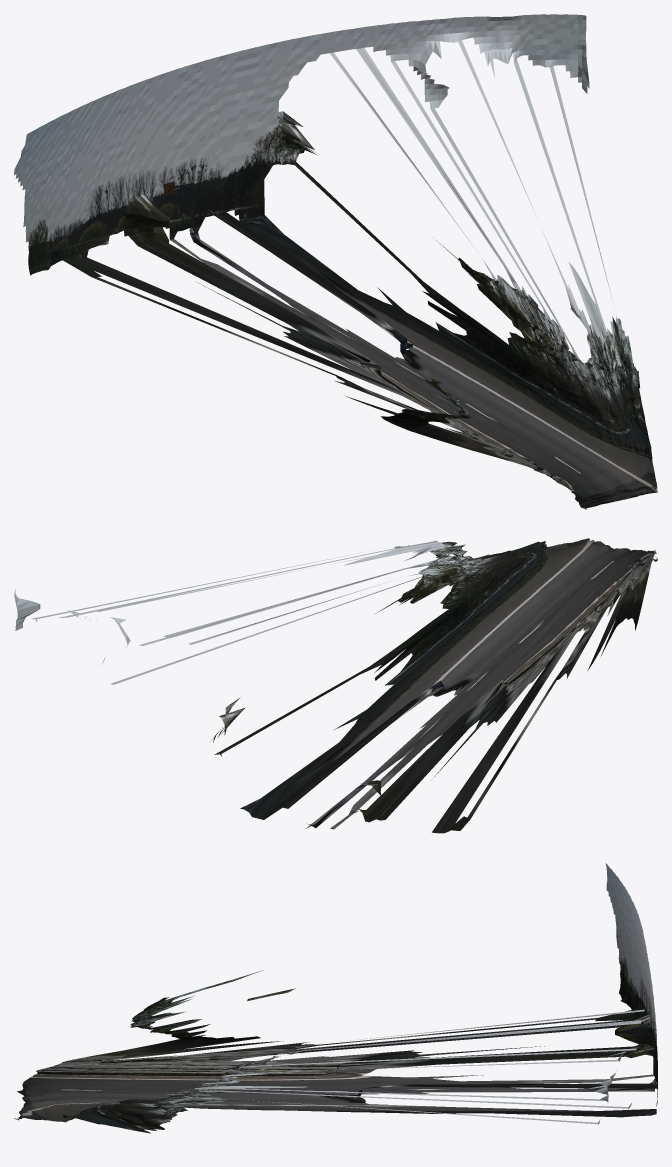
3 views of the same model, one above another, from view 1: azimuth 30°, elevation 25°; view 2: azimuth 150°, elevation 25°; view 3: azimuth 270°, elevation 25° (orthographic). The views are drawn at different scales.
Visible parts, largest first — view 1: defaultobject; view 2: defaultobject; view 3: defaultobject.
Part boxes in pixels (bbox=[...]): defaultobject: bbox=[14, 14, 657, 509]; defaultobject: bbox=[14, 538, 657, 833]; defaultobject: bbox=[14, 863, 657, 1133].
Size of the model in its own units: 37.64 by 11.86 by 44.61.
1 material, 1 textured.
